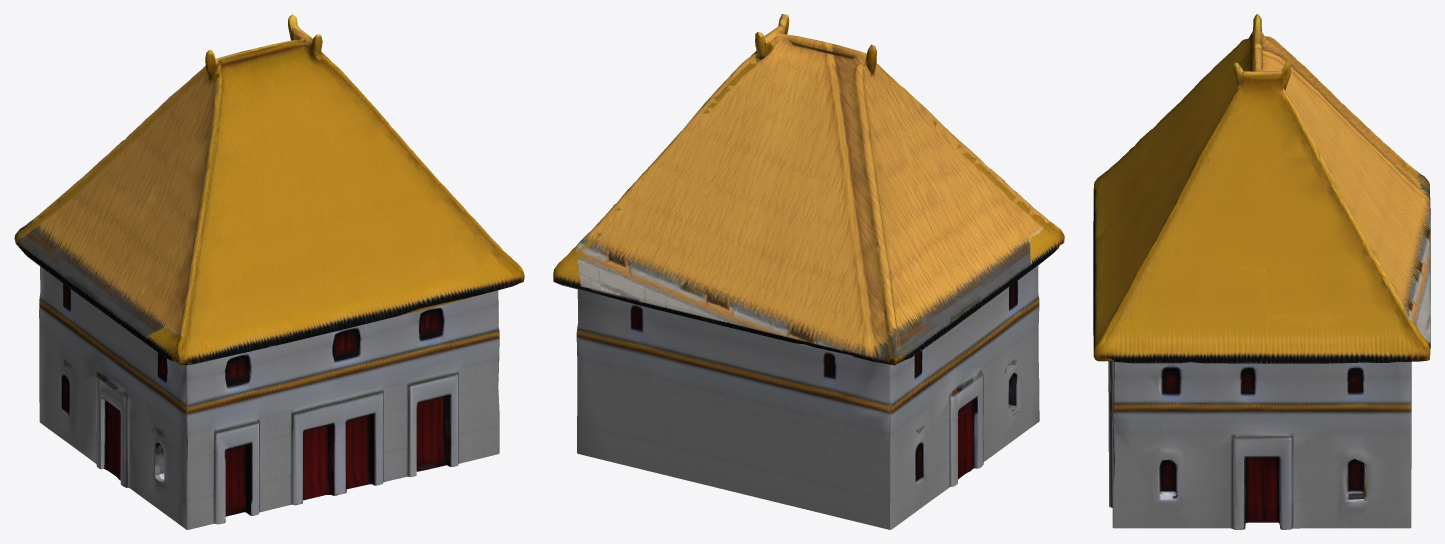
Rendered from tawantinsuyu_centro.glb.
The picture shows the model from 3 angles, left to right: view 1: azimuth 30°, elevation 25°; view 2: azimuth 150°, elevation 25°; view 3: azimuth 270°, elevation 25°; orthographic projection.
Visible parts, largest first — view 1: geometry_0; view 2: geometry_0; view 3: geometry_0.
Part boxes in pixels (x1,y1,x2,y2): geometry_0: [14, 14, 524, 529]; geometry_0: [553, 14, 1064, 529]; geometry_0: [1093, 14, 1430, 529].
Bounding box in the file's own units: 3.4 × 3.8 × 2.85.
1 material, 1 textured.
